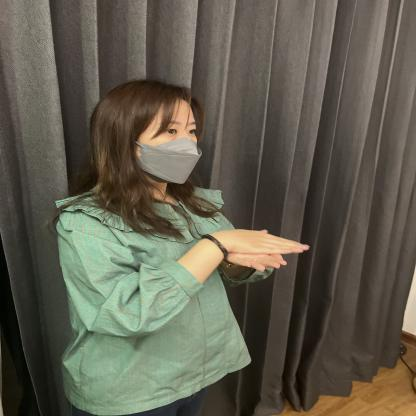Love: (114, 185, 410, 294)
